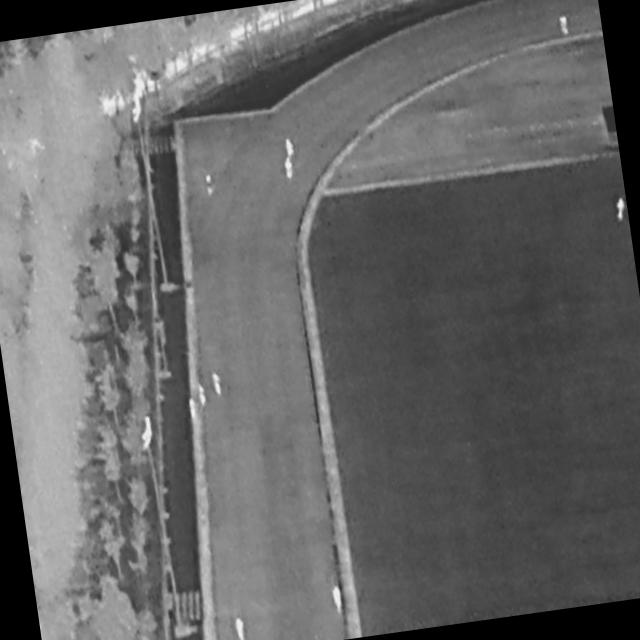person: (332, 586, 345, 616), (212, 373, 225, 397), (235, 617, 248, 640), (284, 157, 295, 182), (559, 15, 571, 37), (199, 384, 209, 409), (617, 198, 627, 223), (285, 137, 296, 159), (206, 175, 216, 198), (189, 397, 199, 420)
